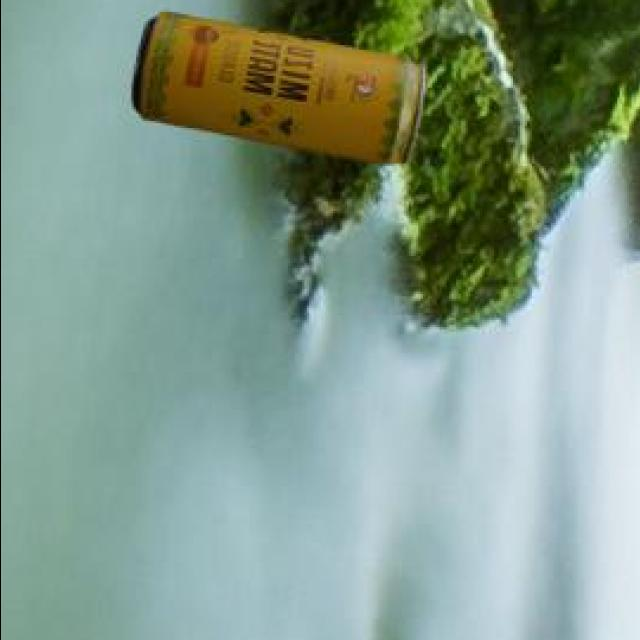logam: (136, 15, 428, 167)
